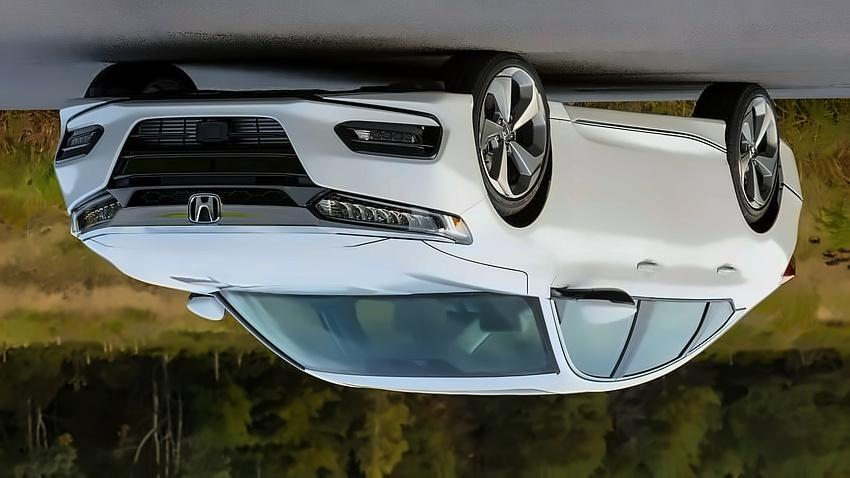Car hood: (76, 229, 528, 307)
Driver-s door - -F-R-: (535, 89, 662, 394)
Fender - -F-R-: (425, 158, 589, 295)
Fender - -R-R-: (720, 174, 807, 319)
Front bumper: (51, 85, 489, 219)
Headlight - -L-: (71, 189, 126, 235)
Headlight - -R-: (302, 185, 474, 247)
Passenger-s door - -R-R-: (615, 99, 742, 388)
Side bumper - -R-: (540, 85, 734, 171)
Side mirror - -L-: (182, 295, 230, 326)
